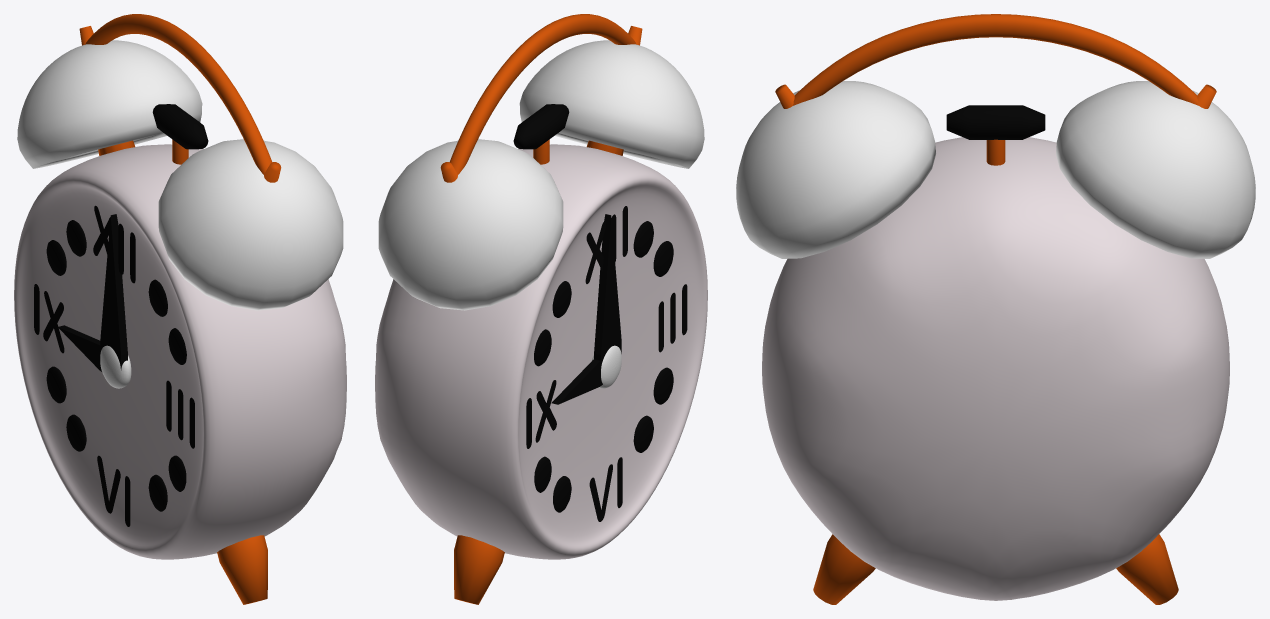
Rendered from jam.fbx.
3 views of the same model, side by side, from view 1: azimuth 30°, elevation 25°; view 2: azimuth 150°, elevation 25°; view 3: azimuth 270°, elevation 25° (orthographic). The views are drawn at different scales.
Visible parts, largest first — view 1: jam bulet, telinga jam, pegangan jam, kaki jam, jarum panjang, 4578, 121011, palu jam, 12, pusat jarum jam, 3, 9 (+3 smaller); view 2: jam bulet, telinga jam, pegangan jam, kaki jam, jarum panjang, 4578, 121011, palu jam, 12, jarum pendek, 9, 3 (+3 smaller); view 3: jam bulet, telinga jam, pegangan jam, kaki jam, palu jam.
Part boxes in pixels (x1,y1,x2,y2): jam bulet: [14, 144, 346, 559]; telinga jam: [17, 40, 343, 310]; pegangan jam: [85, 14, 272, 174]; kaki jam: [217, 535, 267, 604]; jarum panjang: [100, 214, 127, 370]; 4578: [46, 366, 186, 511]; 121011: [46, 220, 186, 364]; palu jam: [152, 104, 208, 149]; 12: [93, 205, 135, 283]; pusat jarum jam: [100, 345, 131, 388]; 3: [166, 380, 194, 448]; 9: [34, 284, 64, 353]; jam bulet: [375, 144, 707, 559]; telinga jam: [378, 40, 704, 310]; pegangan jam: [449, 14, 636, 174]; kaki jam: [454, 535, 504, 604]; jarum panjang: [594, 214, 621, 368]; 4578: [534, 367, 673, 512]; 121011: [534, 221, 673, 366]; palu jam: [513, 104, 569, 149]; 12: [585, 206, 627, 283]; jarum pendek: [551, 359, 602, 404]; 9: [526, 380, 556, 448]; 3: [658, 284, 687, 352]; jam bulet: [762, 137, 1229, 600]; telinga jam: [736, 81, 1255, 258]; pegangan jam: [793, 14, 1198, 105]; kaki jam: [813, 534, 1178, 604]; palu jam: [946, 105, 1045, 139].
Size of the model in its own units: 44.01 by 108 by 86.58.
